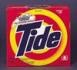grozi_34: (0, 4, 72, 70)
